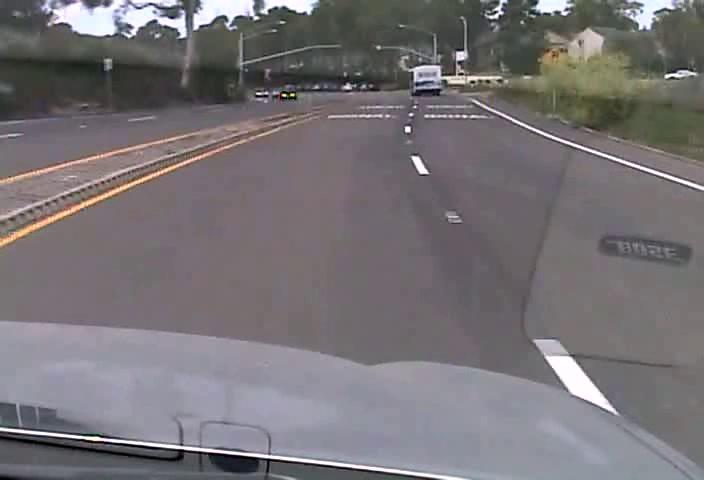signalAhead: (539, 45, 569, 73)
